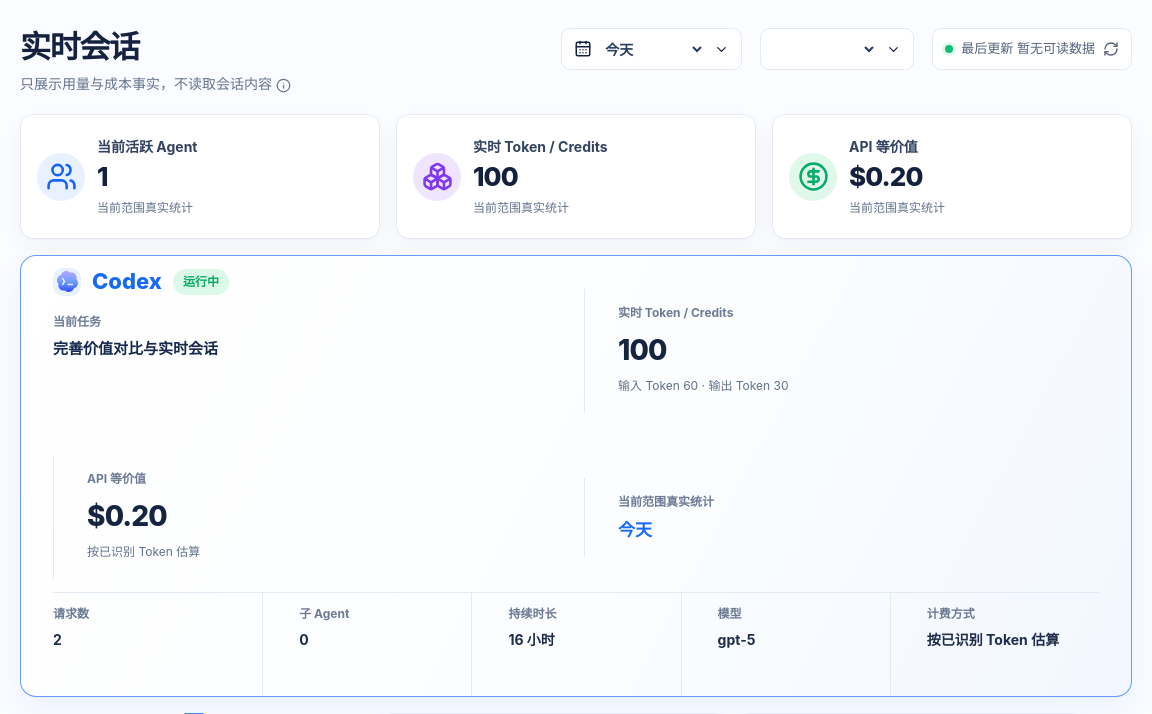
Scenario: RealtimeSessionsPage › manual refresh collects locally before rereading and retains visible data on sync failure
Expected: the text "完善价值对比与实时会话" is shown, [53,339,218,358]
Click the button "最后更新" at (1032, 49), box [932,28,1132,70]
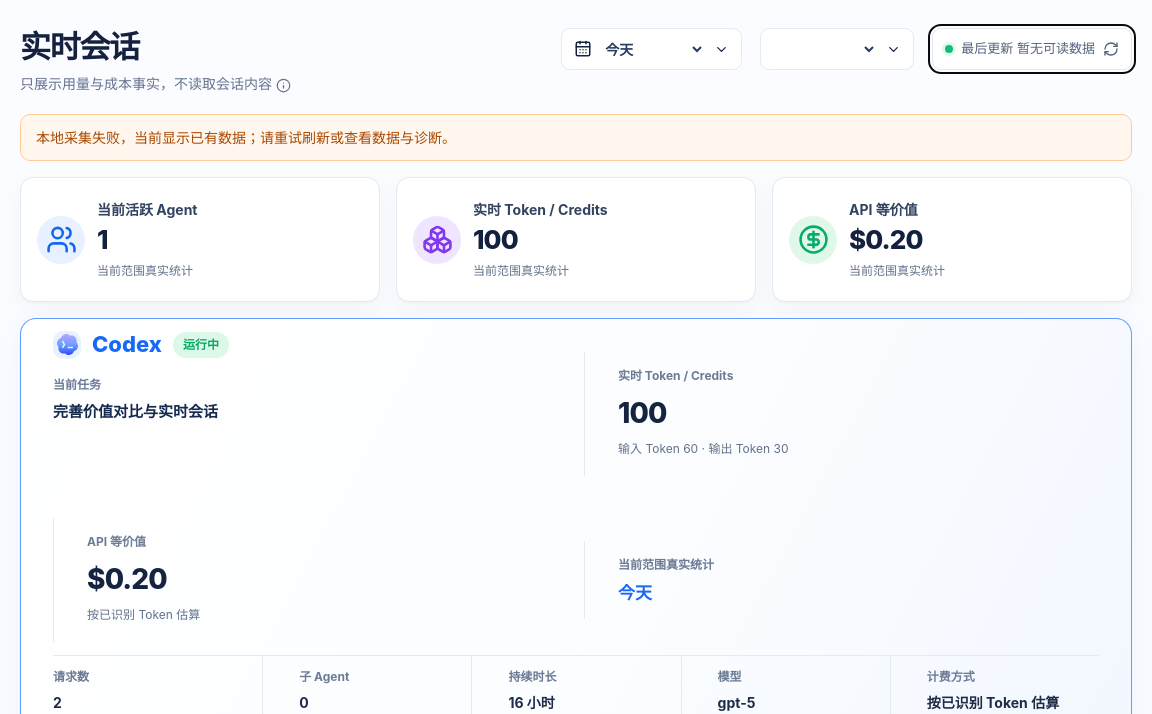
Expected: the text "完善价值对比与实时会话" is shown, [53,402,218,421]
Result: the message shows "本地采集失败" at [36,129,456,146]
